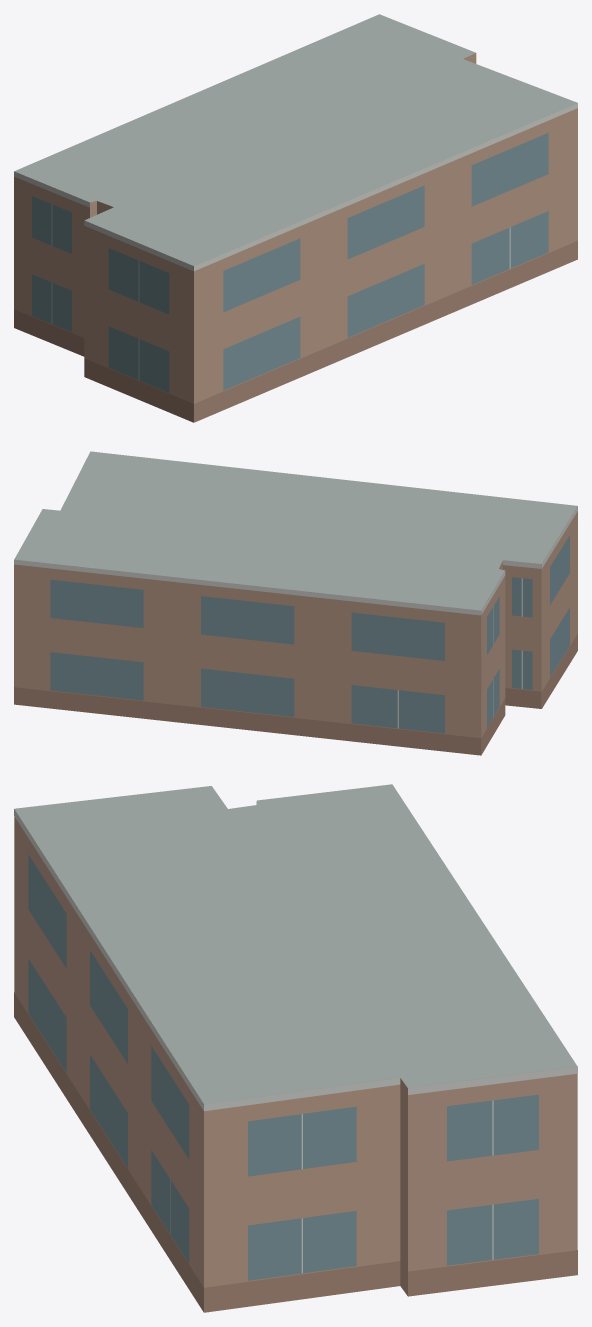
File: survey-upis-32691603.glb
The picture shows the model from 3 angles, top to bottom: view 1: azimuth 30°, elevation 25°; view 2: azimuth 150°, elevation 25°; view 3: azimuth 270°, elevation 25°; orthographic projection. The views are drawn at different scales.
Parts seen in each view (by area): view 1: survey-upis-32691603.tmp; view 2: survey-upis-32691603.tmp; view 3: survey-upis-32691603.tmp.
Boxes of the visible parts, box(x1,y1,x2,y2) form: survey-upis-32691603.tmp: box(14, 14, 577, 422); survey-upis-32691603.tmp: box(14, 451, 577, 755); survey-upis-32691603.tmp: box(14, 784, 577, 1312).
Size of the model in its own units: 23.96 by 7.27 by 17.84.
